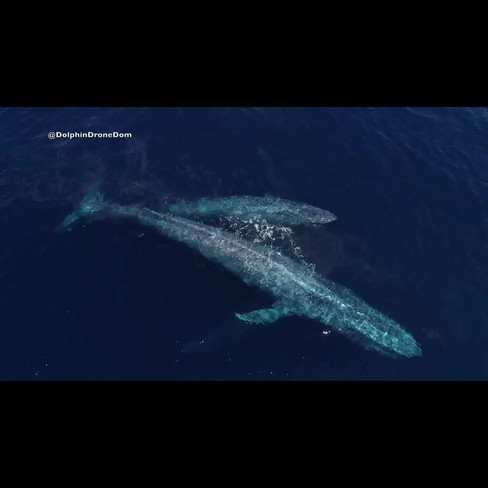bluewhale: (56, 179, 429, 367), (127, 184, 341, 240)
